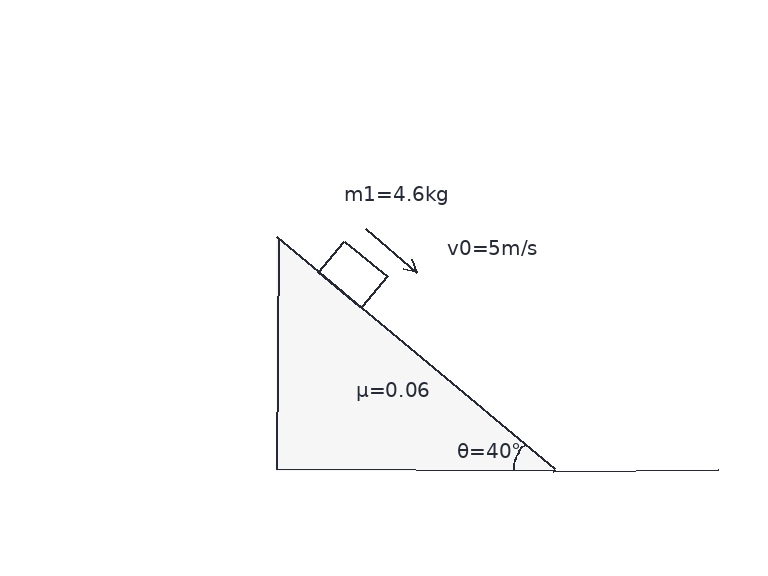block: (316, 238, 388, 309)
ramp: (275, 235, 556, 472)
